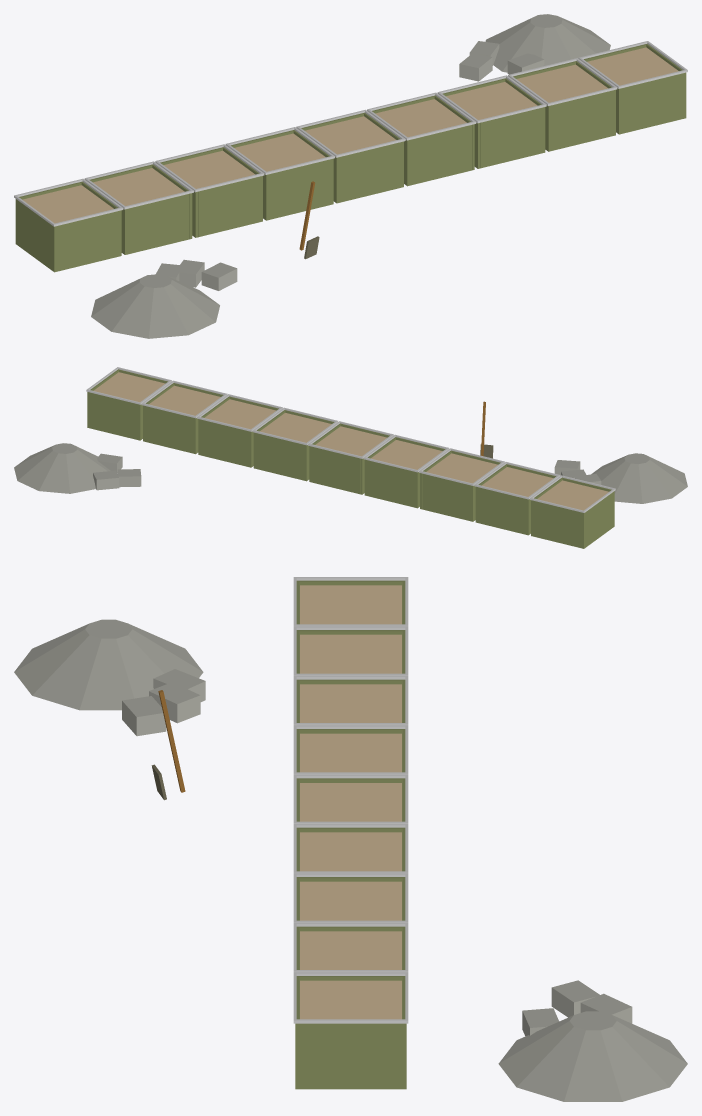
Rendered from SM_ObraReconstruccion_v2_10m_LOD0.fbx.
3 views of the same model, one above another, from view 1: azimuth 30°, elevation 25°; view 2: azimuth 150°, elevation 25°; view 3: azimuth 270°, elevation 25° (orthographic). The views are drawn at different scales.
Visible parts, largest first — view 1: SM_obra_curso_v45_LOD0; view 2: SM_obra_curso_v45_LOD0; view 3: SM_obra_curso_v45_LOD0.
Part boxes in pixels (x1,y1,x2,y2): SM_obra_curso_v45_LOD0: (14, 14, 687, 338); SM_obra_curso_v45_LOD0: (14, 367, 687, 548); SM_obra_curso_v45_LOD0: (14, 577, 687, 1101).
Size of the model in its own units: 10.51 by 1.11 by 6.4.
